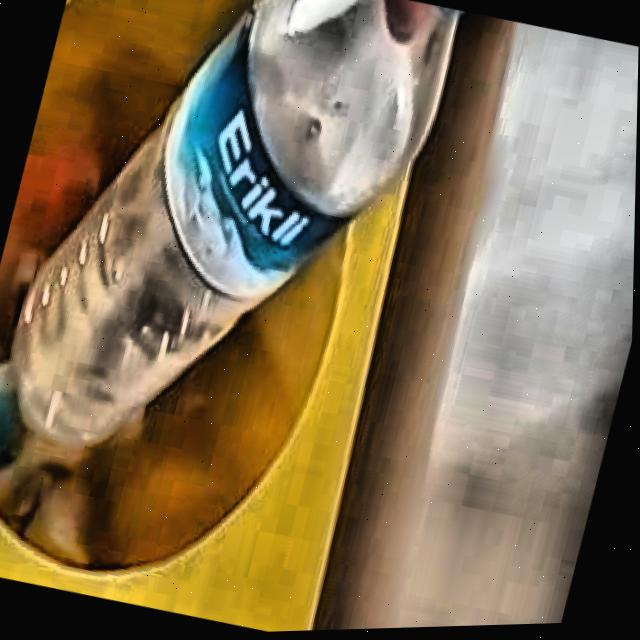plastic: (8, 0, 457, 443)
